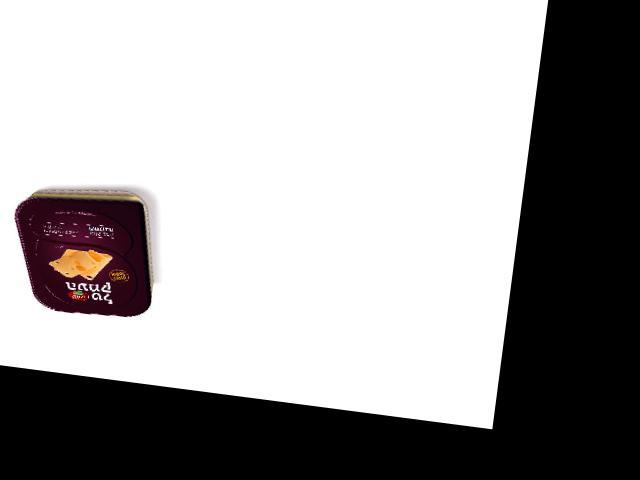cheese: (2, 178, 165, 324)
